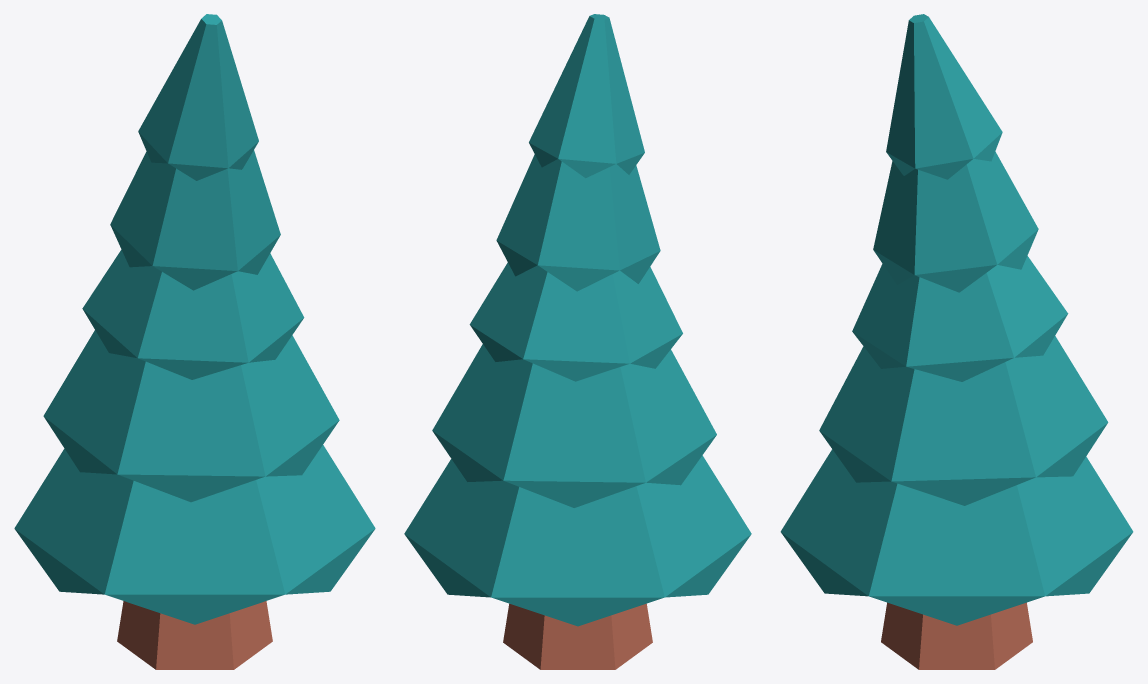
File: tree_pineRoundD.dae
The picture shows the model from 3 angles, left to right: view 1: azimuth 30°, elevation 25°; view 2: azimuth 150°, elevation 25°; view 3: azimuth 270°, elevation 25°; orthographic projection. The views are drawn at different scales.
Parts seen in each view (by area): view 1: tree_pineRoundD; view 2: tree_pineRoundD; view 3: tree_pineRoundD.
Boxes of the visible parts, bbox=[...] form: tree_pineRoundD: bbox=[14, 14, 375, 669]; tree_pineRoundD: bbox=[404, 14, 751, 669]; tree_pineRoundD: bbox=[780, 14, 1133, 669].
Size of the model in its own units: 0.4804 by 1.08 by 0.5547.
